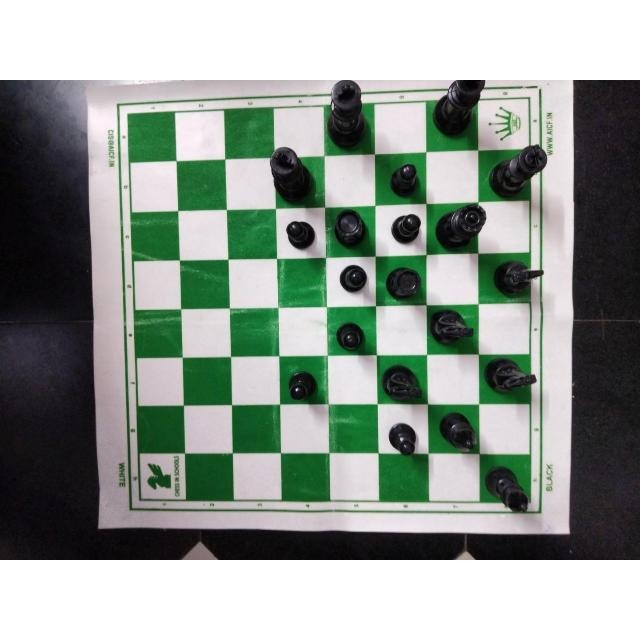black-bishop: (484, 464, 532, 516), (438, 410, 478, 454)
black-king: (487, 145, 549, 203), (325, 81, 373, 150), (267, 144, 314, 204)
black-knight: (429, 86, 476, 143), (479, 355, 540, 397), (379, 362, 427, 406), (489, 259, 543, 297), (430, 307, 479, 348)
black-pawn: (278, 216, 321, 251), (385, 421, 422, 459), (386, 163, 422, 201), (284, 367, 320, 403), (389, 212, 423, 250), (332, 320, 367, 353), (336, 263, 370, 295)
black-queen: (434, 204, 489, 248)
black-rook: (329, 208, 369, 252), (384, 263, 425, 302)
